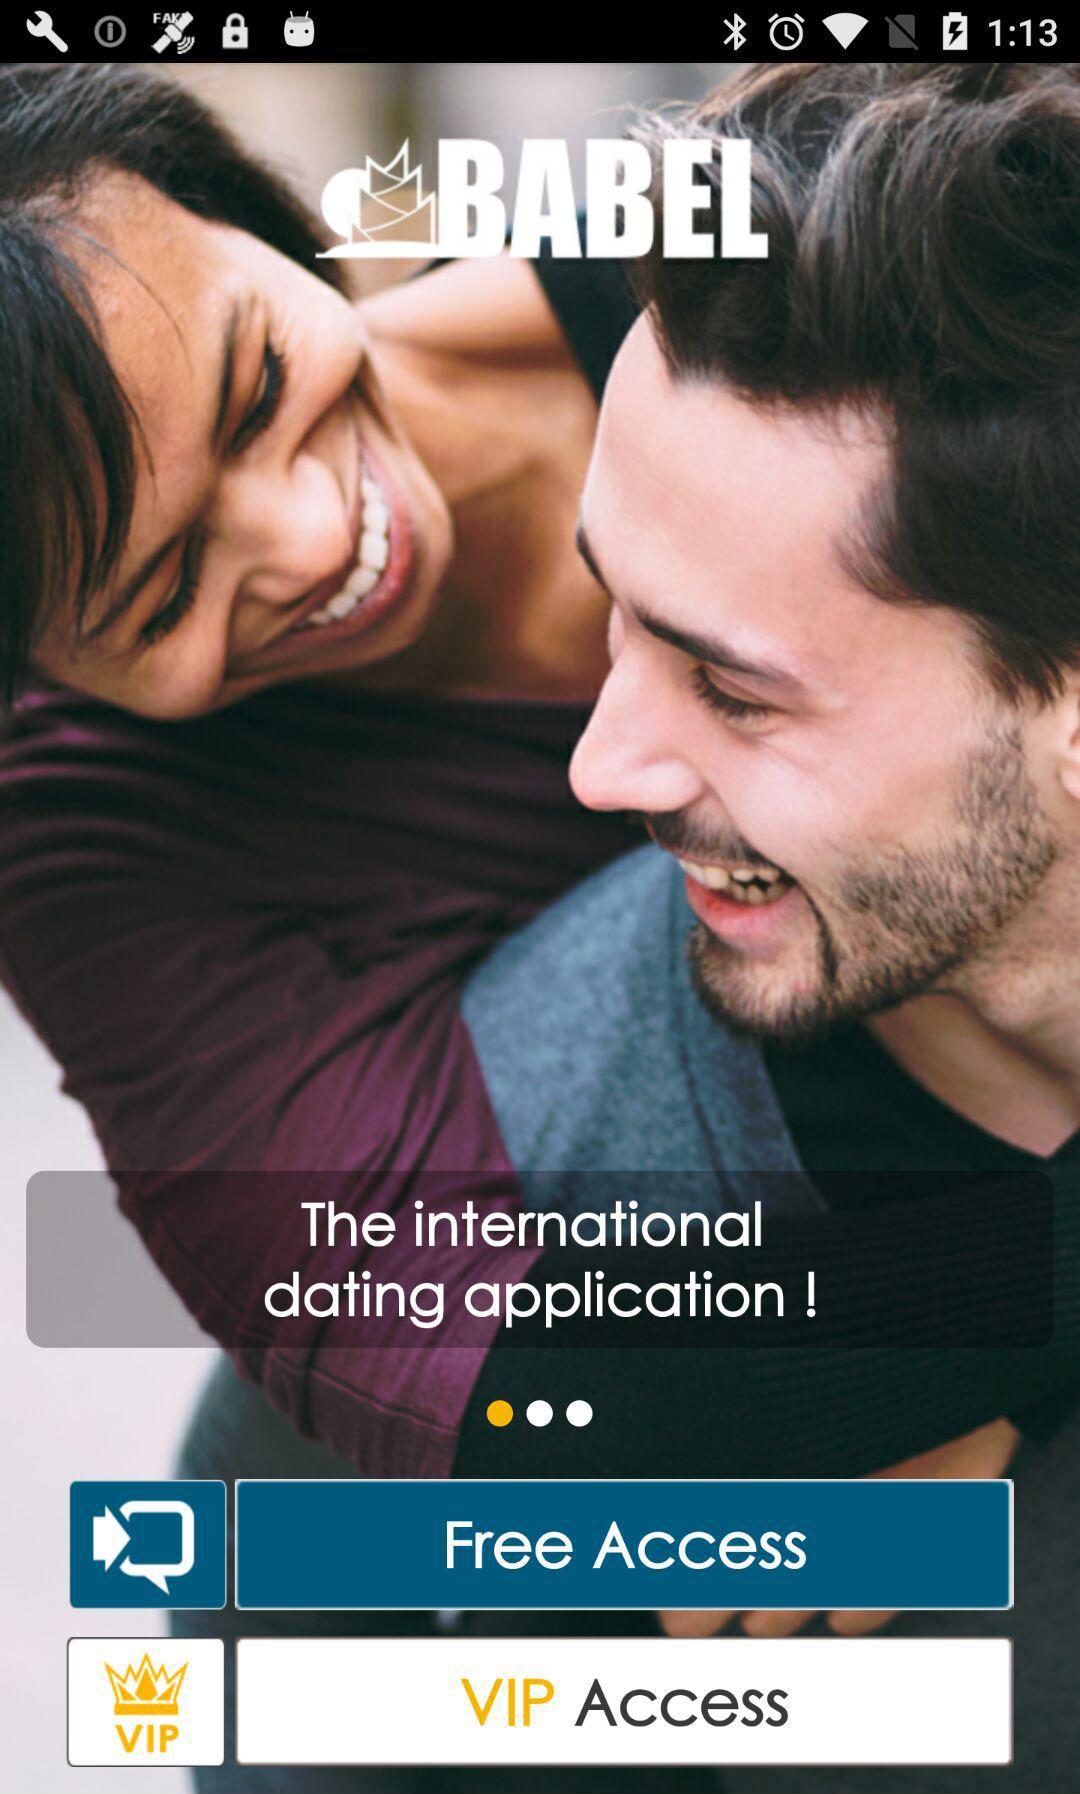BackgroundImage: (1, 64, 1080, 1794)
Icon: (70, 1480, 229, 1609)
Image: (307, 135, 770, 260), (67, 1638, 225, 1768)
PageIndicator: (486, 1399, 594, 1428)
Text: (263, 1199, 817, 1328)
TextButton: (234, 1479, 1015, 1611), (236, 1635, 1015, 1767)
UpperTaskBar: (1, 1, 1080, 64)
